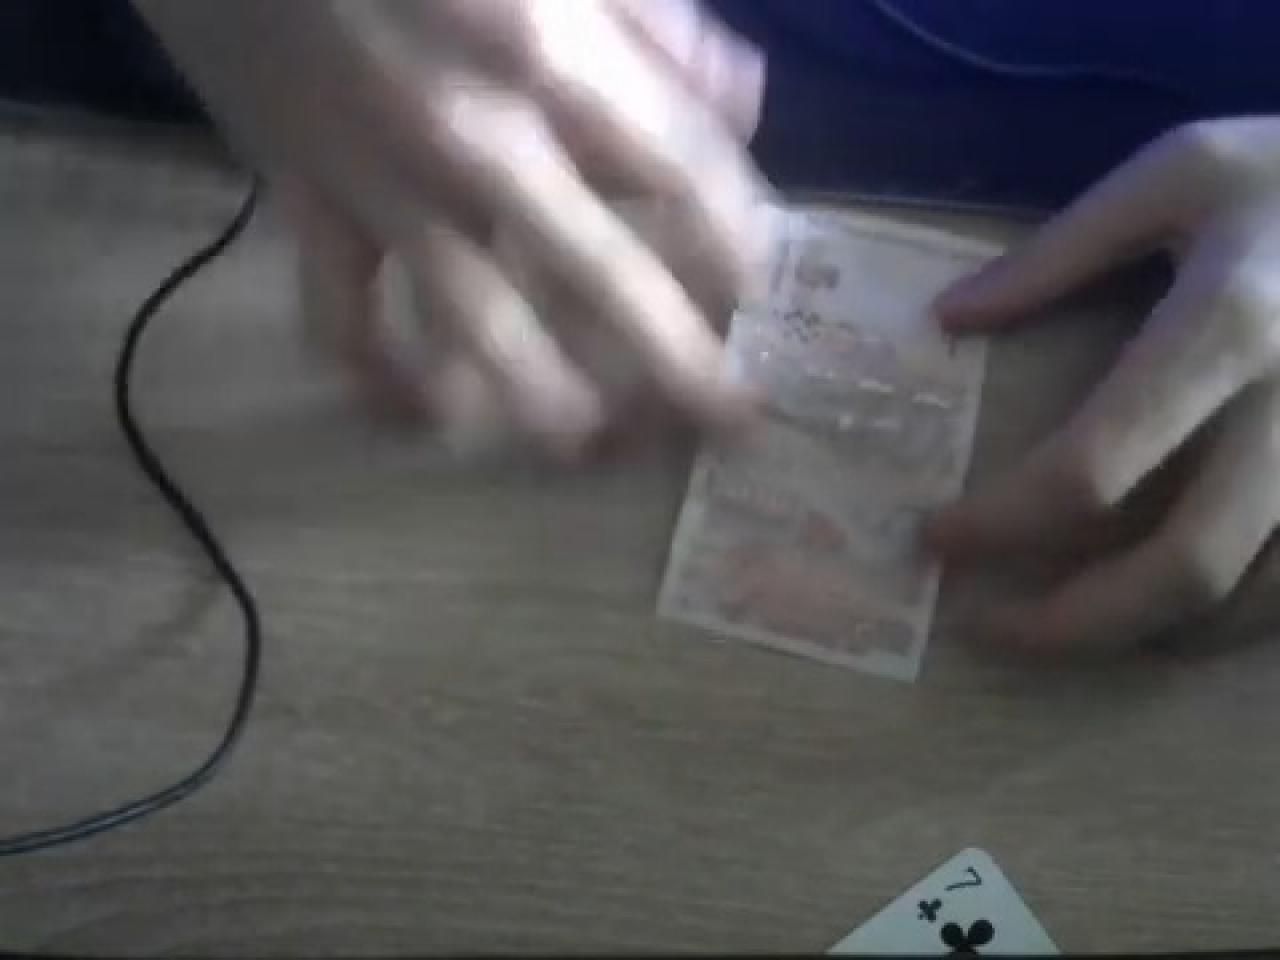5leva: (656, 203, 1024, 688)
